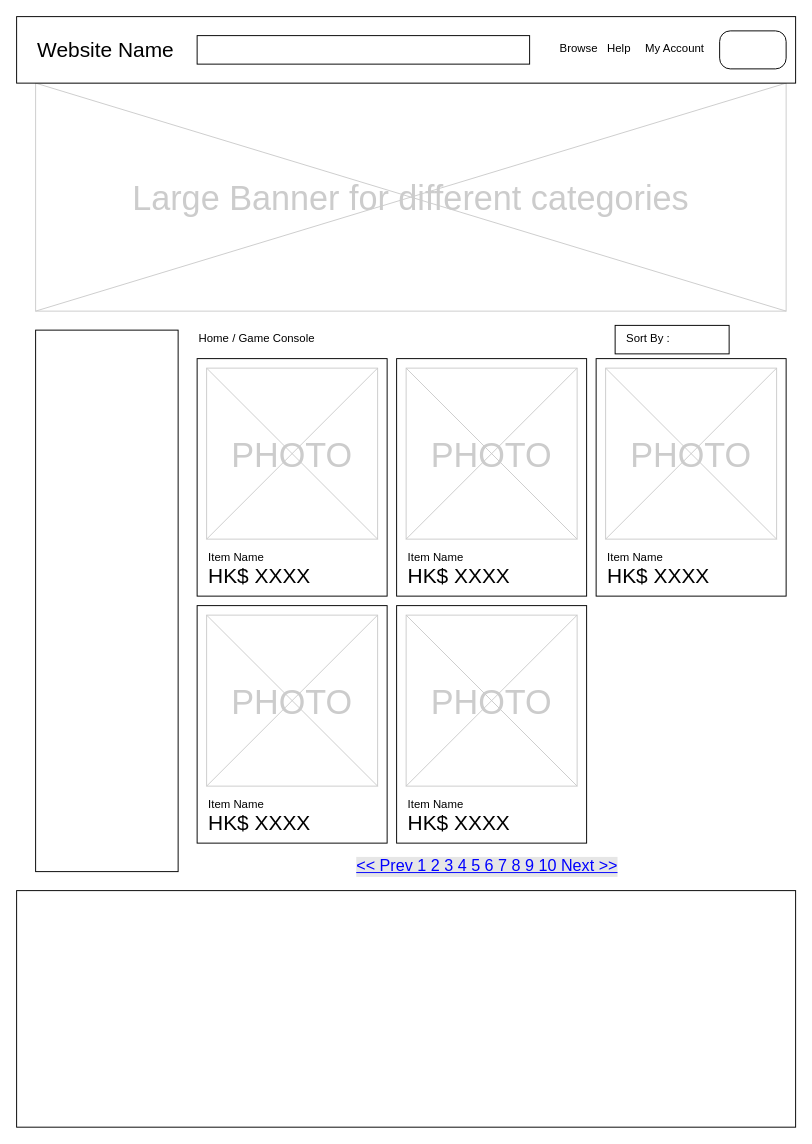
Some shapes in this 812 by 1144 pixel diagram are drawn without their labels. Here are the shapes that lost their labels. From the top down, the centre of each, then its label:
At point 363,49: "search bar".
At point 752,49: "SELL".
At point 106,600: "Navigation".
At point 406,1008: "FOOTER".
